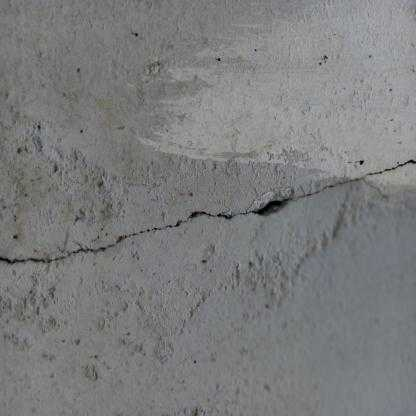crack: (0, 159, 416, 264)
